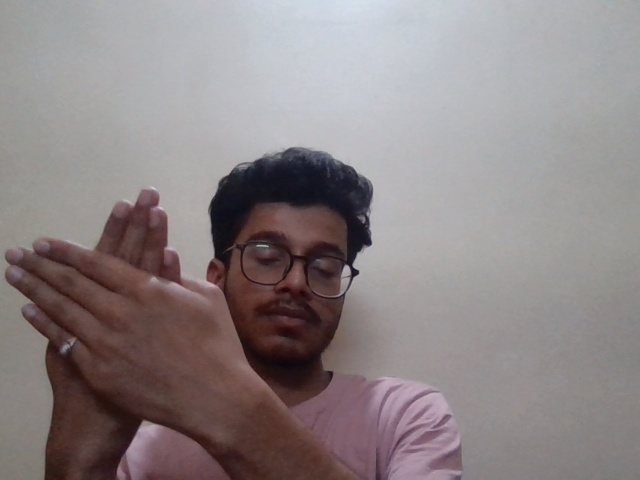what: (1, 186, 254, 450)
